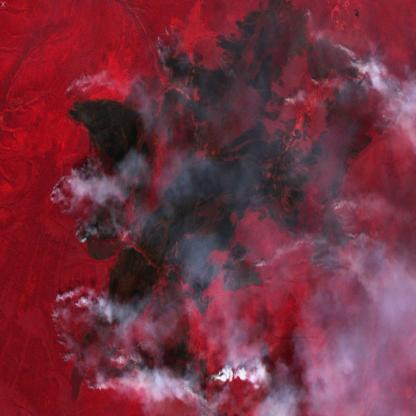fire: (46, 0, 405, 416)
